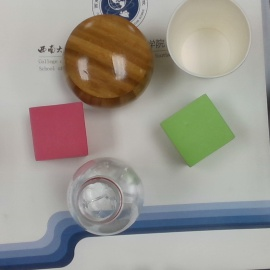bottle: (69, 155, 143, 234)
cup: (64, 15, 157, 109), (165, 2, 250, 80)
